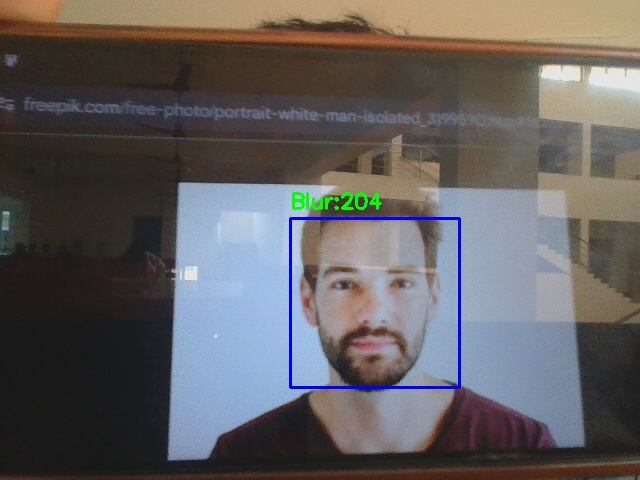fake: (290, 218, 459, 387)
